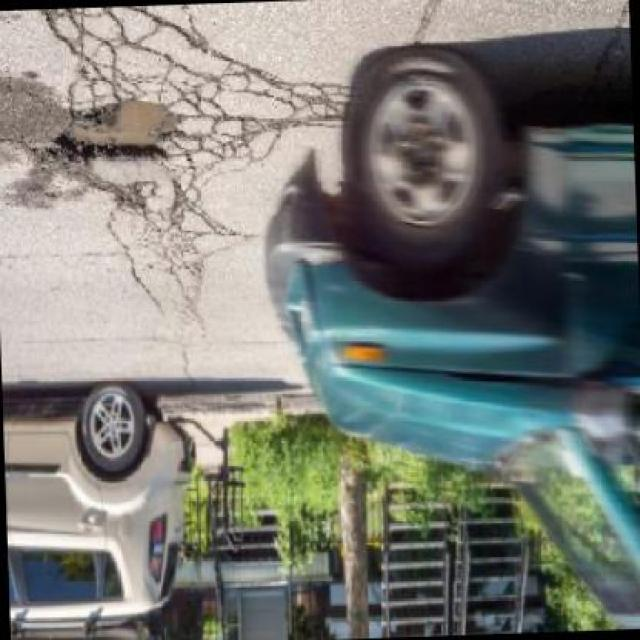pothole1: (49, 101, 180, 167)
